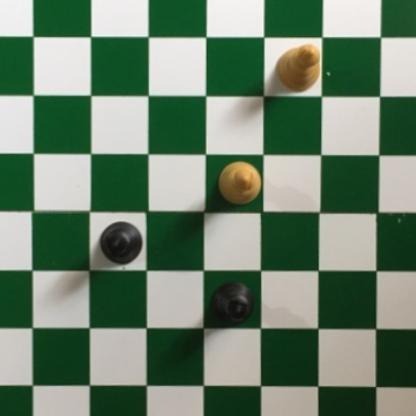black-bishop: (208, 281, 254, 330), (98, 220, 144, 267)
white-bishop: (274, 42, 320, 93), (216, 160, 260, 206)
